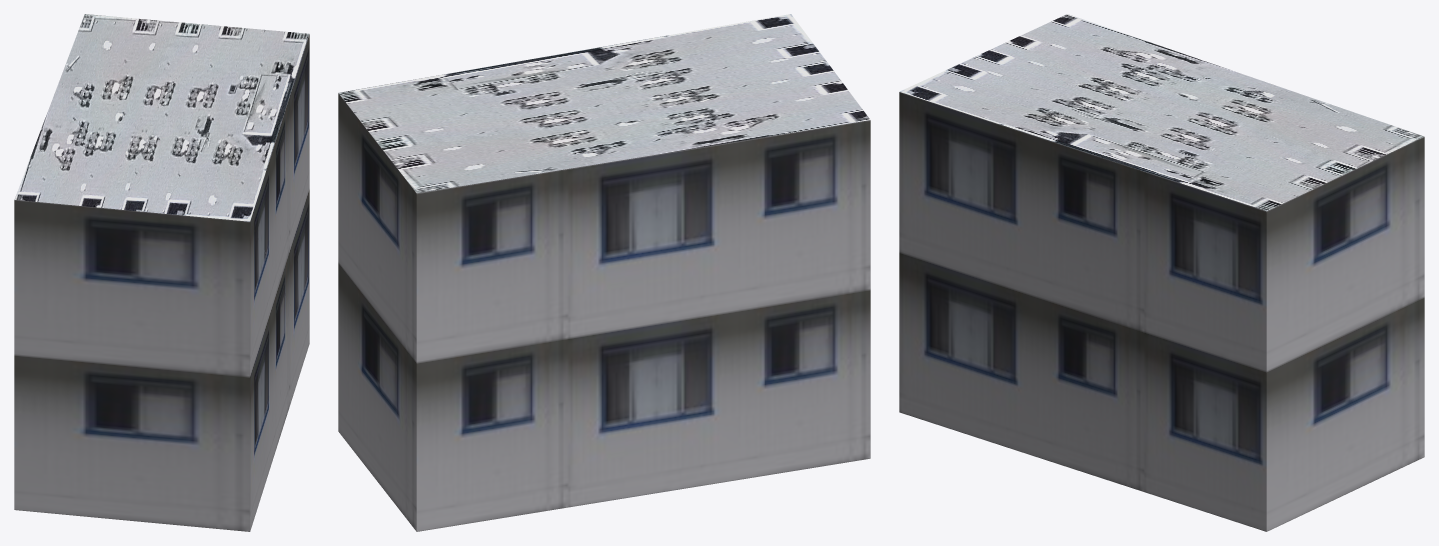
Rendered from ResTex__164.fbx.
The picture shows the model from 3 angles, left to right: view 1: azimuth 30°, elevation 25°; view 2: azimuth 150°, elevation 25°; view 3: azimuth 270°, elevation 25°; orthographic projection. The views are drawn at different scales.
Visible parts, largest first — view 1: CityEngineMaterial_9_m, CityEngineMaterial_8_m; view 2: CityEngineMaterial_9_m, CityEngineMaterial_8_m; view 3: CityEngineMaterial_9_m, CityEngineMaterial_8_m.
Part boxes in pixels (box(x1,y1,x2,y2)): CityEngineMaterial_9_m: box(14, 34, 309, 531); CityEngineMaterial_8_m: box(14, 14, 309, 221); CityEngineMaterial_9_m: box(338, 93, 870, 531); CityEngineMaterial_8_m: box(338, 14, 870, 193); CityEngineMaterial_9_m: box(899, 92, 1424, 531); CityEngineMaterial_8_m: box(899, 14, 1424, 211).
Size of the model in its own units: 7.92 by 6 by 8.91.
2 materials, 2 textured.
